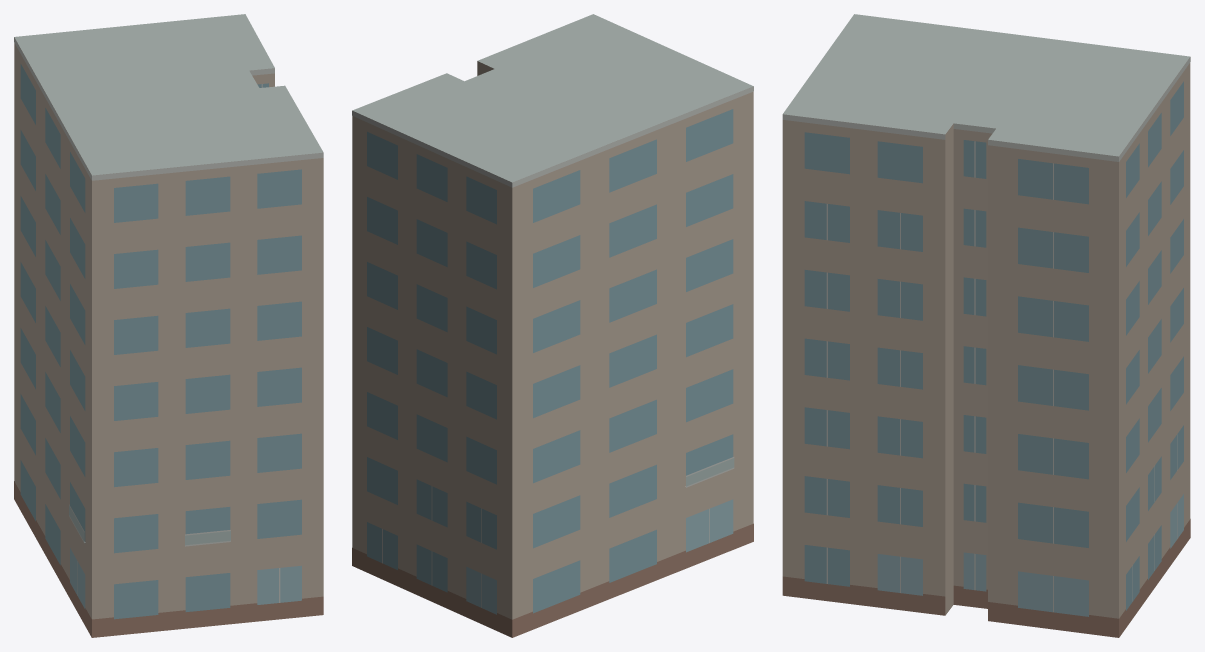
The model's file is survey-upis-32964883.glb.
3 renders of one model, left to right at view 1: azimuth 30°, elevation 25°; view 2: azimuth 150°, elevation 25°; view 3: azimuth 270°, elevation 25°, orthographic. The views are drawn at different scales.
Parts seen in each view (by area): view 1: survey-upis-32964883.tmp; view 2: survey-upis-32964883.tmp; view 3: survey-upis-32964883.tmp.
Part boxes in pixels (x1,y1,x2,y2): survey-upis-32964883.tmp: (14, 14, 323, 637); survey-upis-32964883.tmp: (352, 14, 753, 637); survey-upis-32964883.tmp: (782, 14, 1190, 637).
Bounding box in the file's own units: 13.57 × 21.35 × 16.41.
